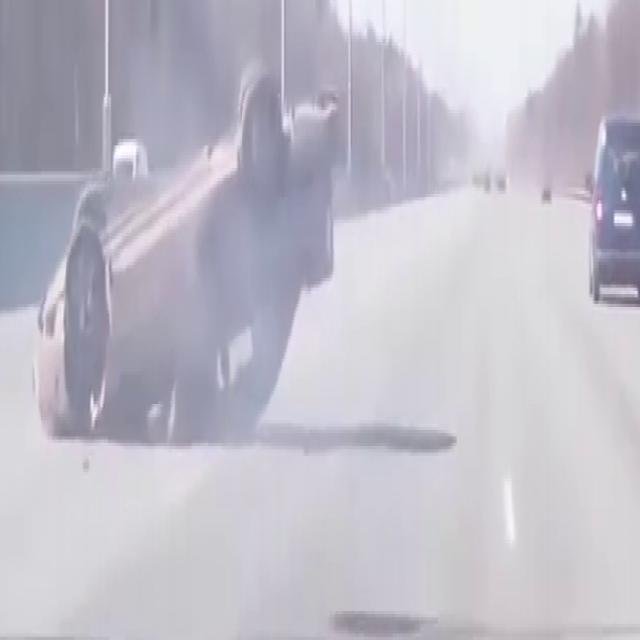accident: (30, 47, 342, 482)
